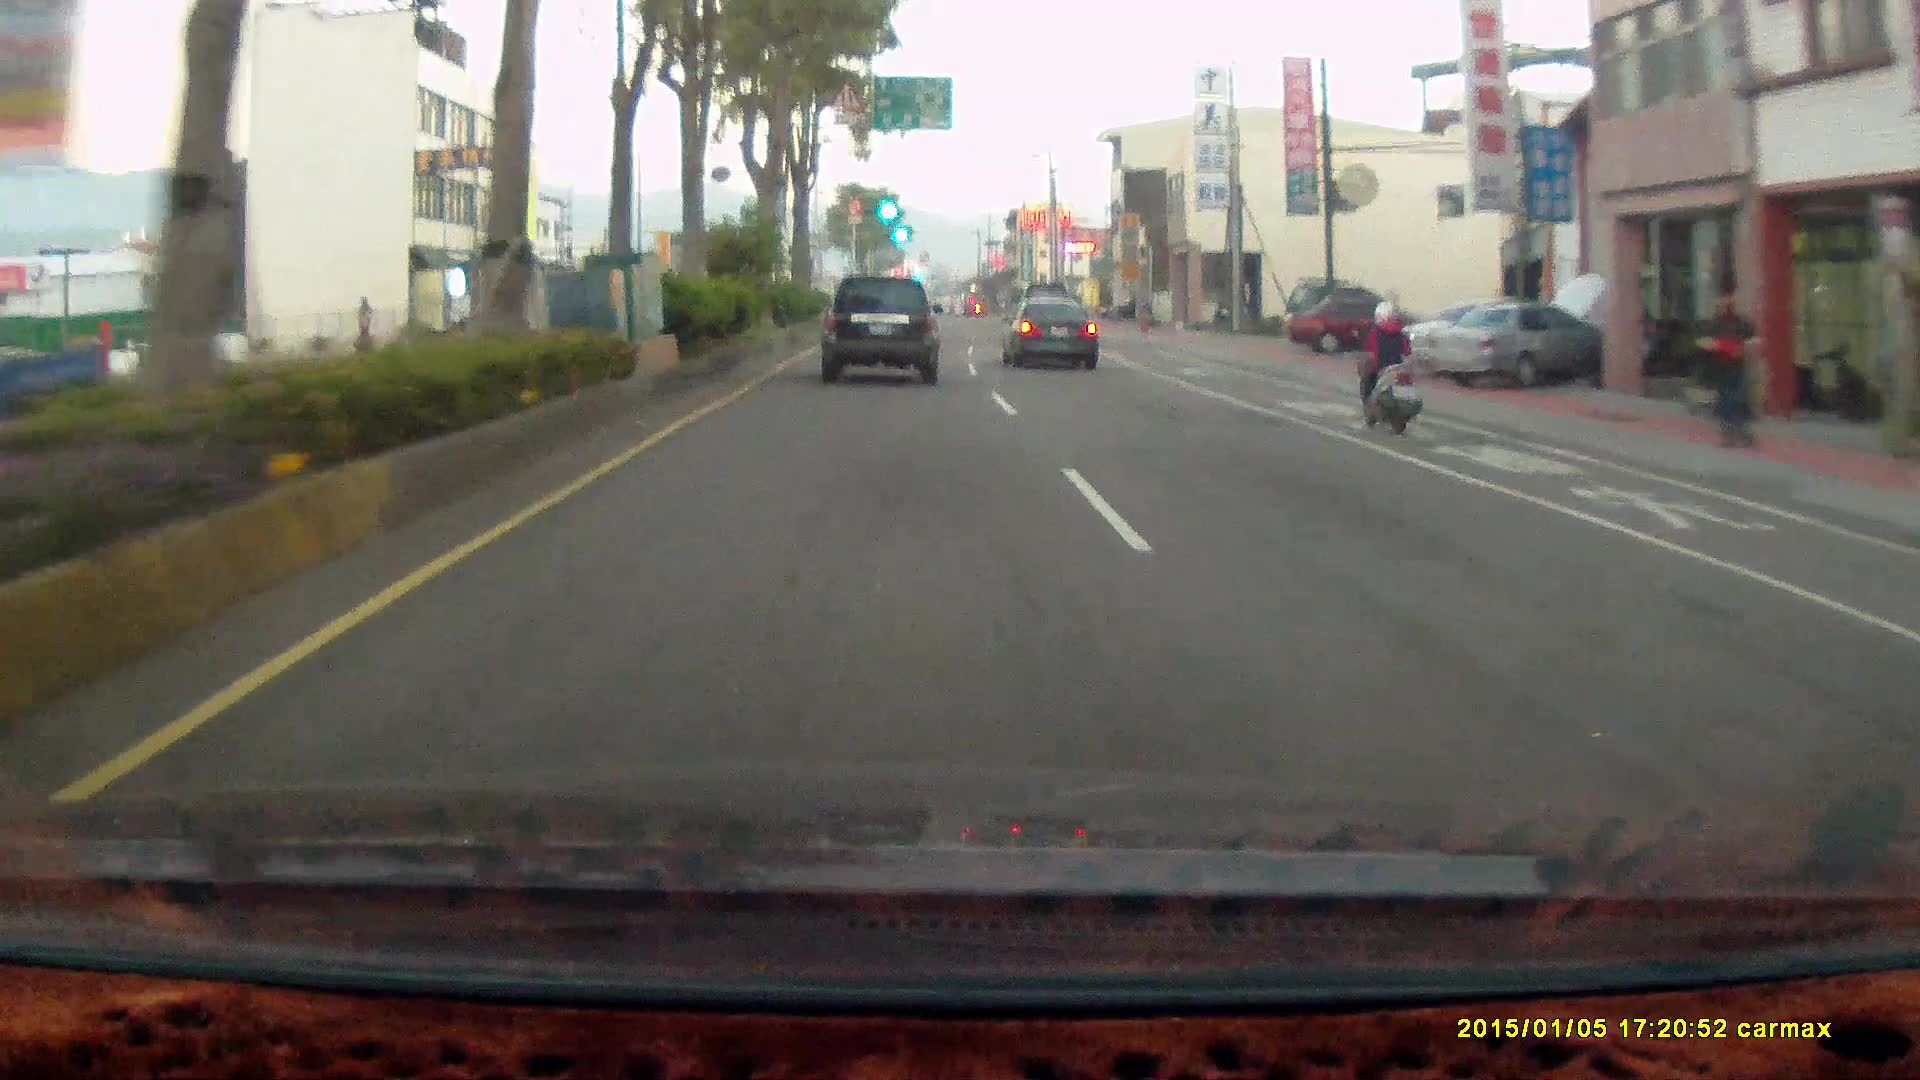pedestrian: (1698, 278, 1775, 452)
rider: (1341, 286, 1434, 447), (1351, 297, 1422, 433)
vehicle: (1429, 299, 1608, 389), (1, 298, 106, 440), (819, 276, 945, 388), (819, 272, 943, 381), (1285, 294, 1431, 359), (1284, 294, 1433, 353), (1001, 296, 1101, 370), (1000, 297, 1098, 369)
